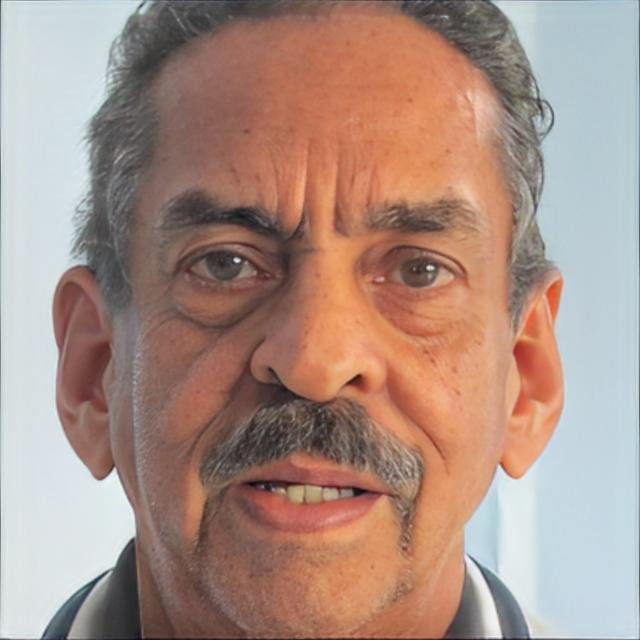anger: (108, 28, 526, 633)
